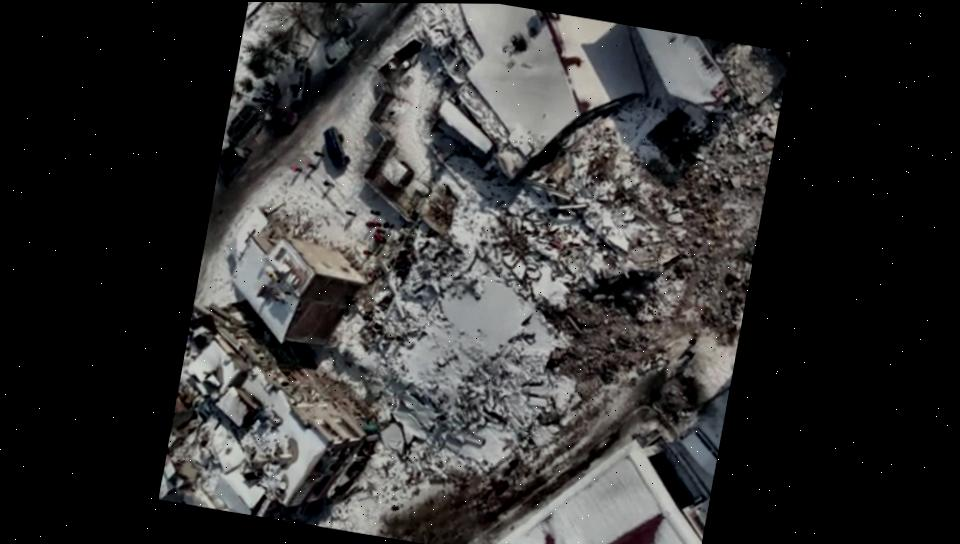kapali: (396, 199, 764, 544)
